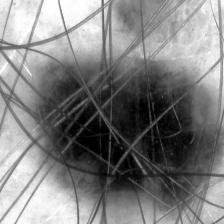Benign Marking or Mole: (41, 62, 212, 192)
